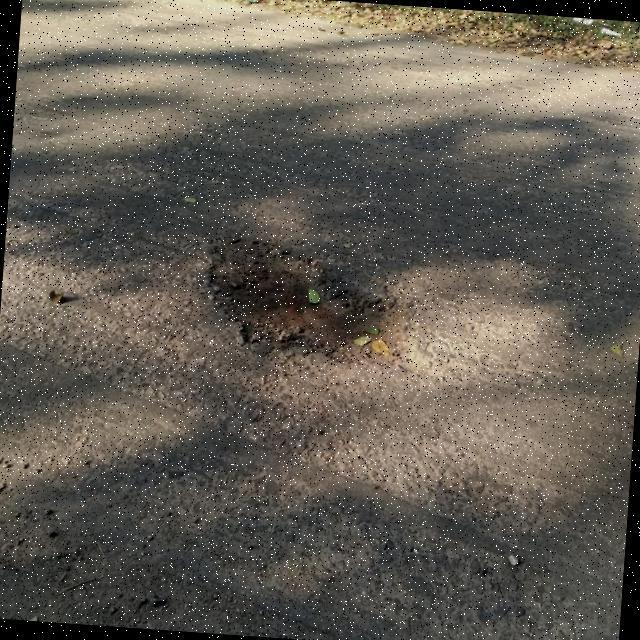Pothole: (203, 239, 434, 383)
